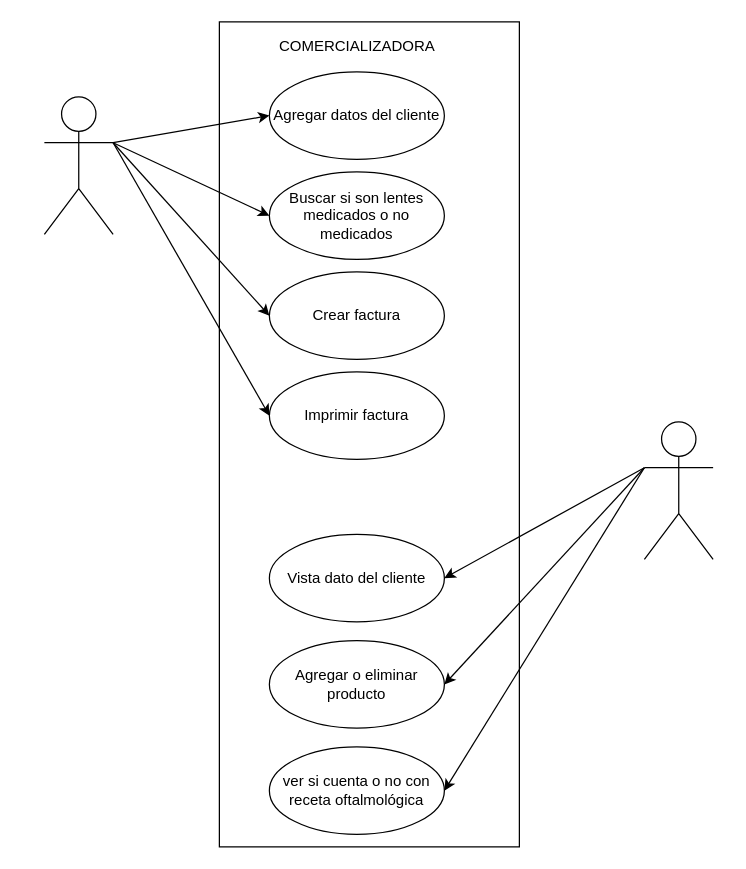
Image size: 746x869. Some labels were removed from this diagram. Here are the shapes that lost their labels. From the top down, the box of each, then its label:
(43, 96, 113, 234): Vendedor de la comercializadora
(643, 421, 713, 559): Administrador
